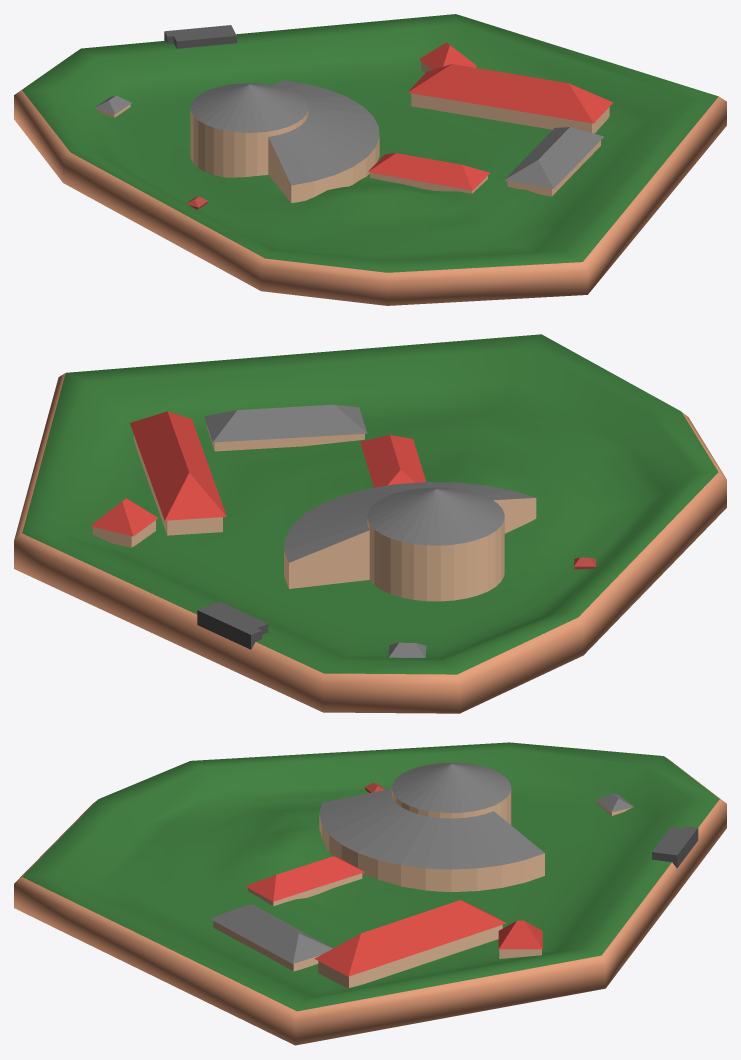
File: munkholmen.dae
3 views of the same model, one above another, from view 1: azimuth 30°, elevation 25°; view 2: azimuth 150°, elevation 25°; view 3: azimuth 270°, elevation 25° (orthographic). The views are drawn at different scales.
Visible parts, largest first — view 1: Munkholmen, Cylinder_001, Plane, Cylinder, Plane_002, Plane_003, Plane_005, Plane_001, Plane_004; view 2: Munkholmen, Cylinder, Cylinder_001, Plane, Plane_002, Plane_003, Plane_001, Plane_005; view 3: Munkholmen, Cylinder_001, Plane, Cylinder, Plane_002, Plane_003, Plane_001, Plane_005, Plane_004.
Part boxes in pixels (x1,y1,x2,y2): Munkholmen: (14, 14, 726, 305); Cylinder_001: (268, 80, 379, 203); Plane: (408, 64, 613, 133); Cylinder: (190, 83, 308, 177); Plane_002: (504, 127, 603, 196); Plane_003: (368, 153, 489, 193); Plane_005: (164, 25, 236, 48); Plane_001: (419, 42, 477, 72); Plane_004: (94, 95, 131, 117); Munkholmen: (14, 334, 726, 713); Cylinder: (367, 487, 504, 601); Cylinder_001: (284, 482, 536, 588); Plane: (130, 411, 226, 535); Plane_002: (204, 404, 367, 451); Plane_003: (360, 435, 426, 487); Plane_001: (90, 498, 158, 547); Plane_005: (197, 601, 268, 649); Munkholmen: (14, 742, 726, 1045); Cylinder_001: (319, 788, 544, 892); Plane: (314, 900, 506, 987); Cylinder: (391, 762, 511, 824); Plane_002: (210, 904, 332, 971); Plane_003: (245, 856, 364, 906); Plane_001: (498, 920, 542, 958); Plane_005: (652, 826, 698, 868); Plane_004: (596, 793, 633, 815).
Bounding box in the file's own units: 122 × 134 × 17.3.
